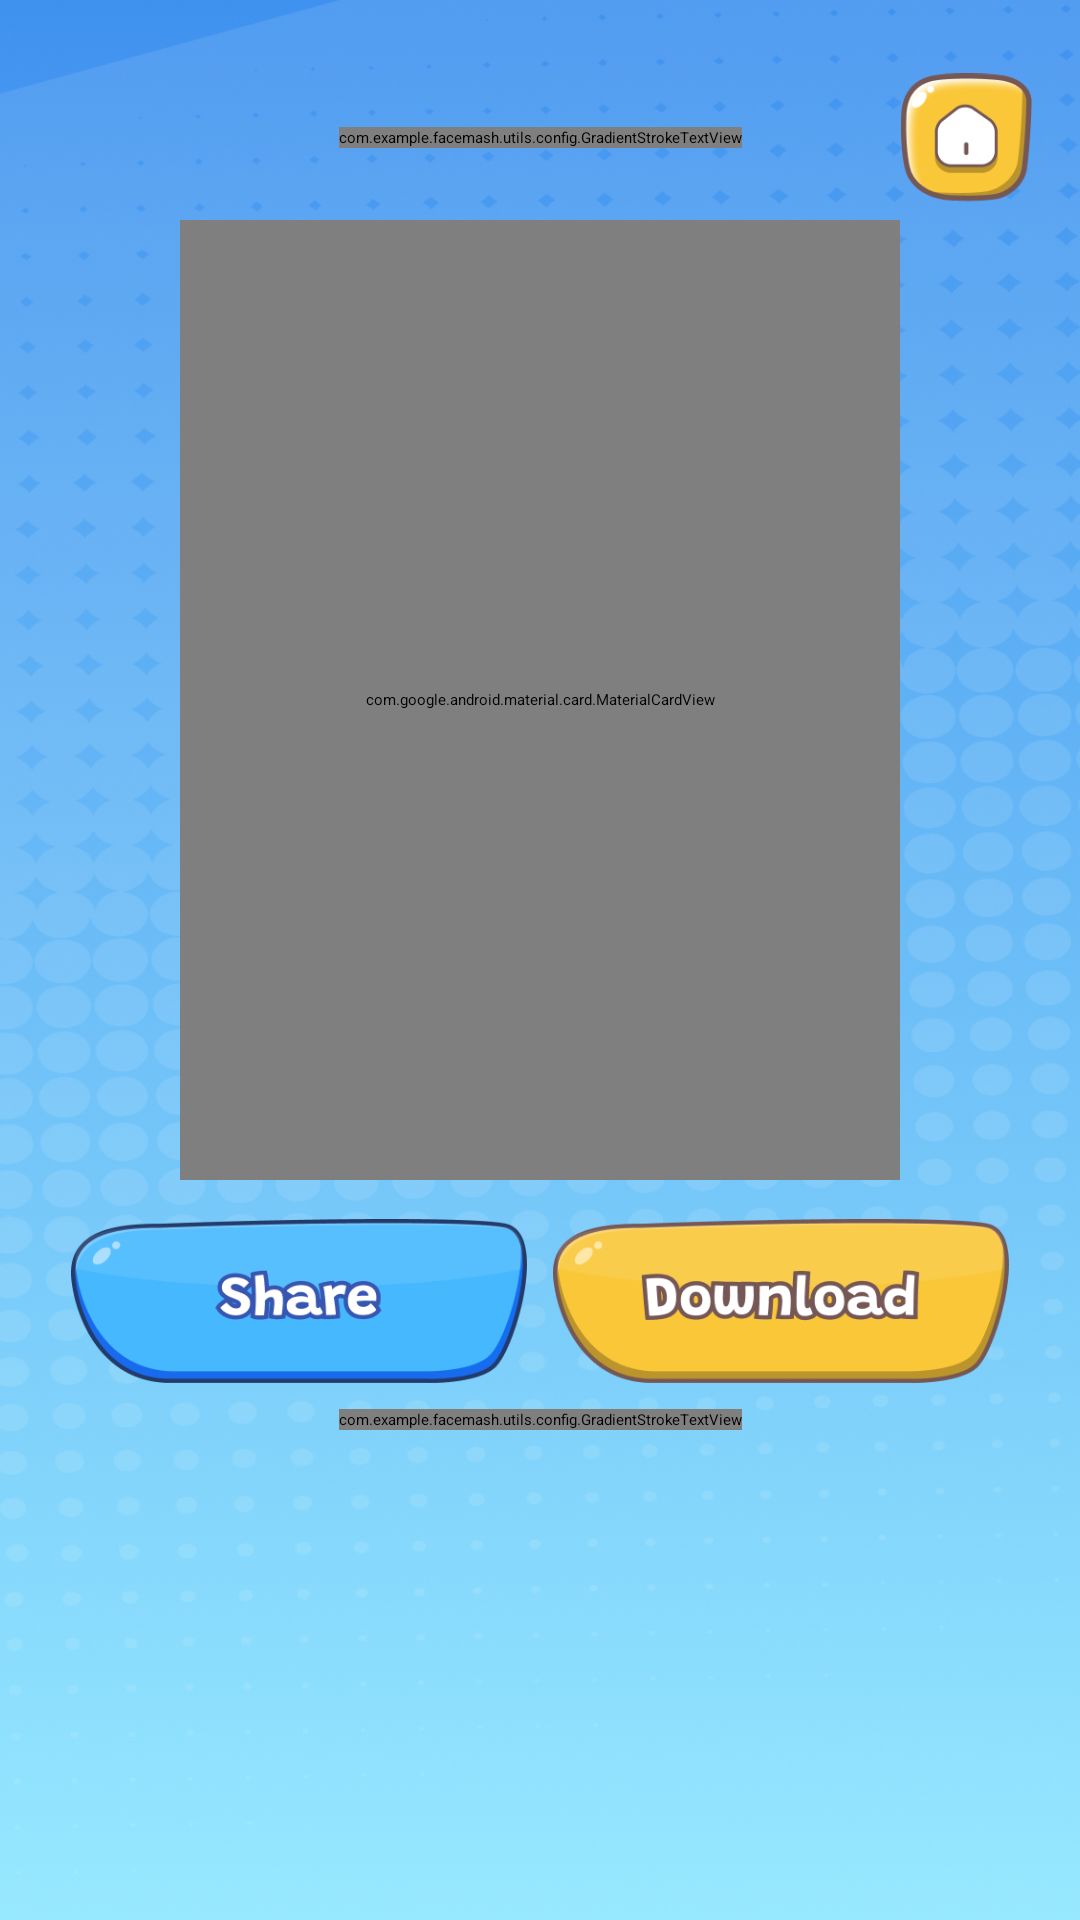

Icon click points for this 1080*1920 phone screenshot, format (x=x, y=y):
home: (x=966, y=137)
